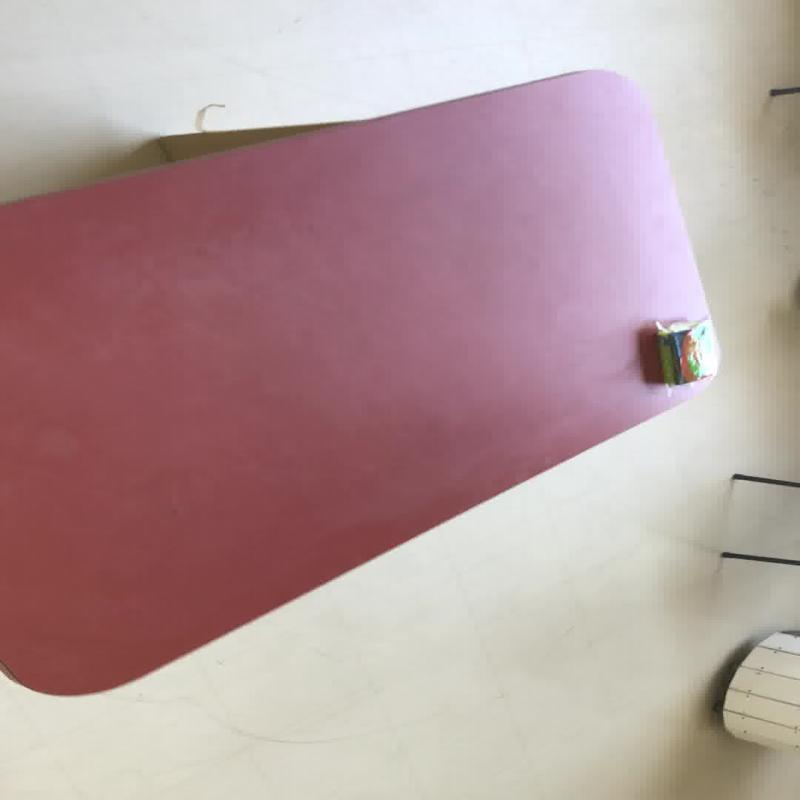sponge: (0, 67, 720, 695), (719, 630, 798, 751), (652, 316, 718, 385)
